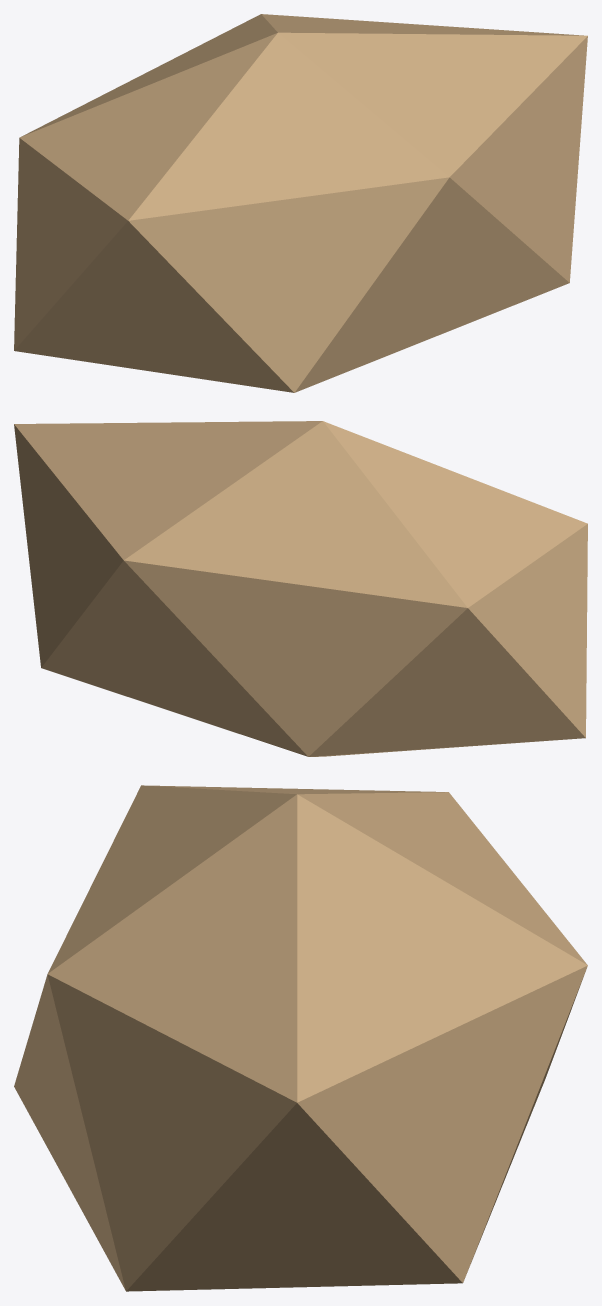
Rendered from item_018_hazelnuts_s.glb.
3 renders of one model, top to bottom at view 1: azimuth 30°, elevation 25°; view 2: azimuth 150°, elevation 25°; view 3: azimuth 270°, elevation 25°, orthographic. The views are drawn at different scales.
Parts seen in each view (by area): view 1: item_018_hazelnuts_s; view 2: item_018_hazelnuts_s; view 3: item_018_hazelnuts_s.
Part boxes in pixels (x1,y1,x2,y2): item_018_hazelnuts_s: (14, 14, 587, 392); item_018_hazelnuts_s: (14, 421, 587, 756); item_018_hazelnuts_s: (14, 785, 587, 1291).
Size of the model in its own units: 0.3304 by 0.1853 by 0.2132.
